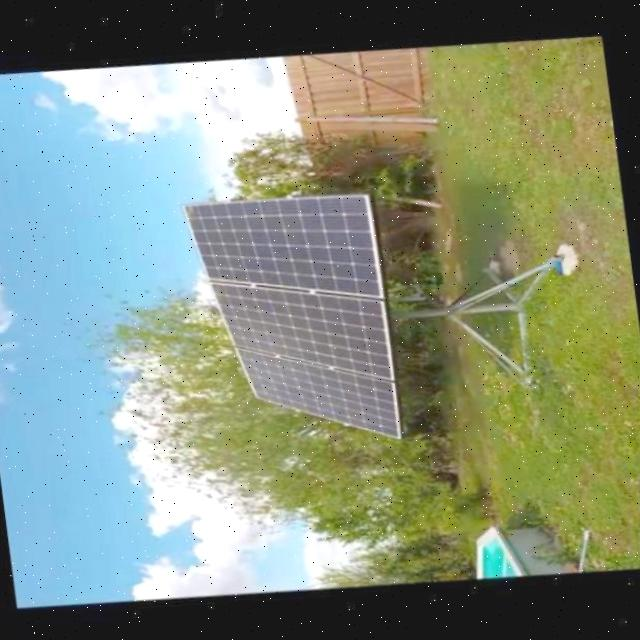Normal Solar Panel: (185, 178, 385, 314), (212, 259, 396, 393), (236, 326, 402, 450)
